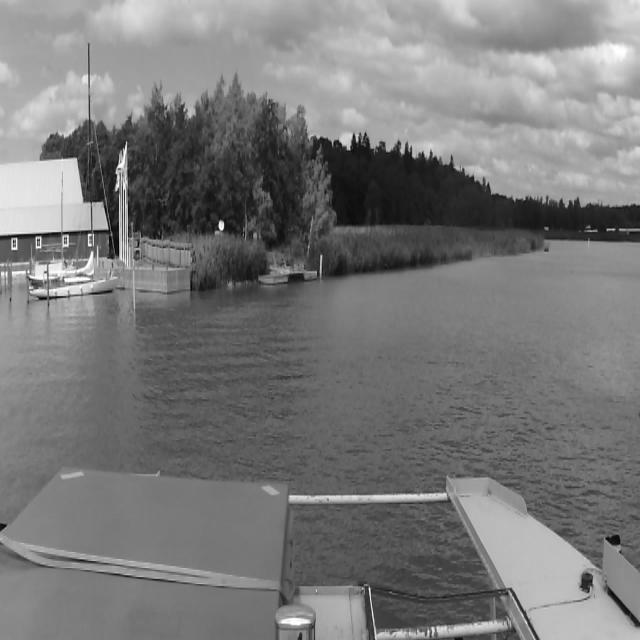buoy: (132, 260, 136, 311)
ship: (28, 42, 122, 300)
